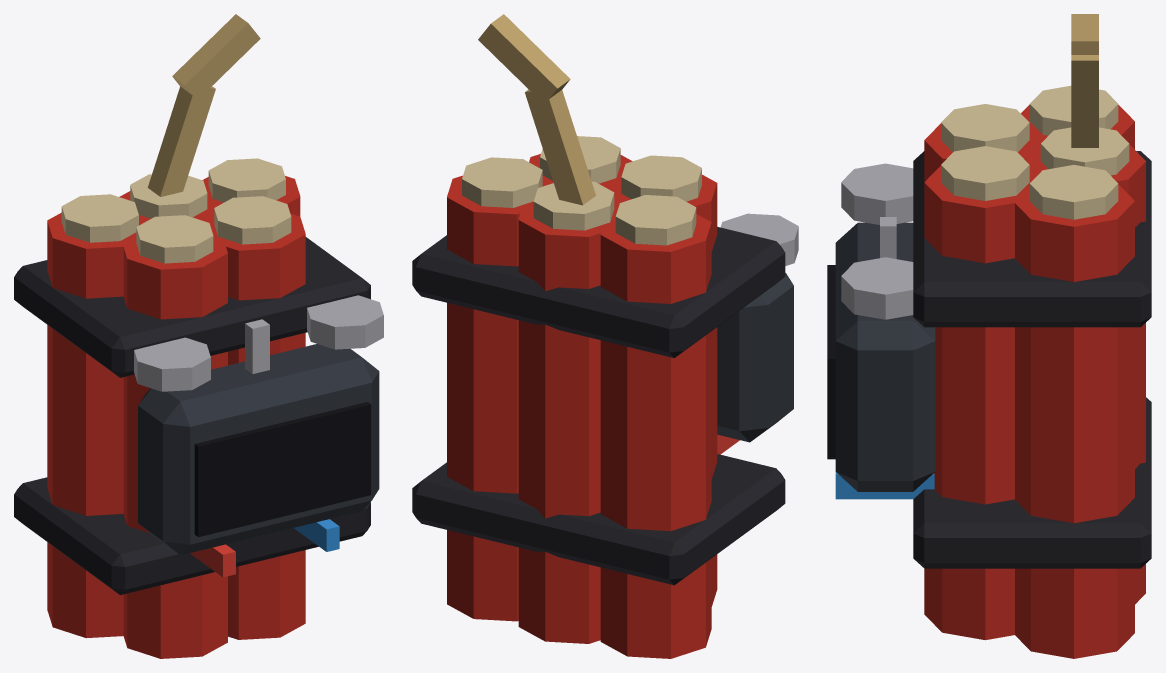
The model's file is dynamite.glb.
The picture shows the model from 3 angles, left to right: view 1: azimuth 30°, elevation 25°; view 2: azimuth 150°, elevation 25°; view 3: azimuth 270°, elevation 25°; orthographic projection. The views are drawn at different scales.
Visible parts, largest first — view 1: dynamite; view 2: dynamite; view 3: dynamite.
Boxes of the visible parts, x1,y1,x2,y2 form: dynamite: [14, 14, 383, 658]; dynamite: [412, 14, 798, 658]; dynamite: [827, 14, 1151, 658].
Bounding box in the file's own units: 0.6 × 1.23 × 0.585.
